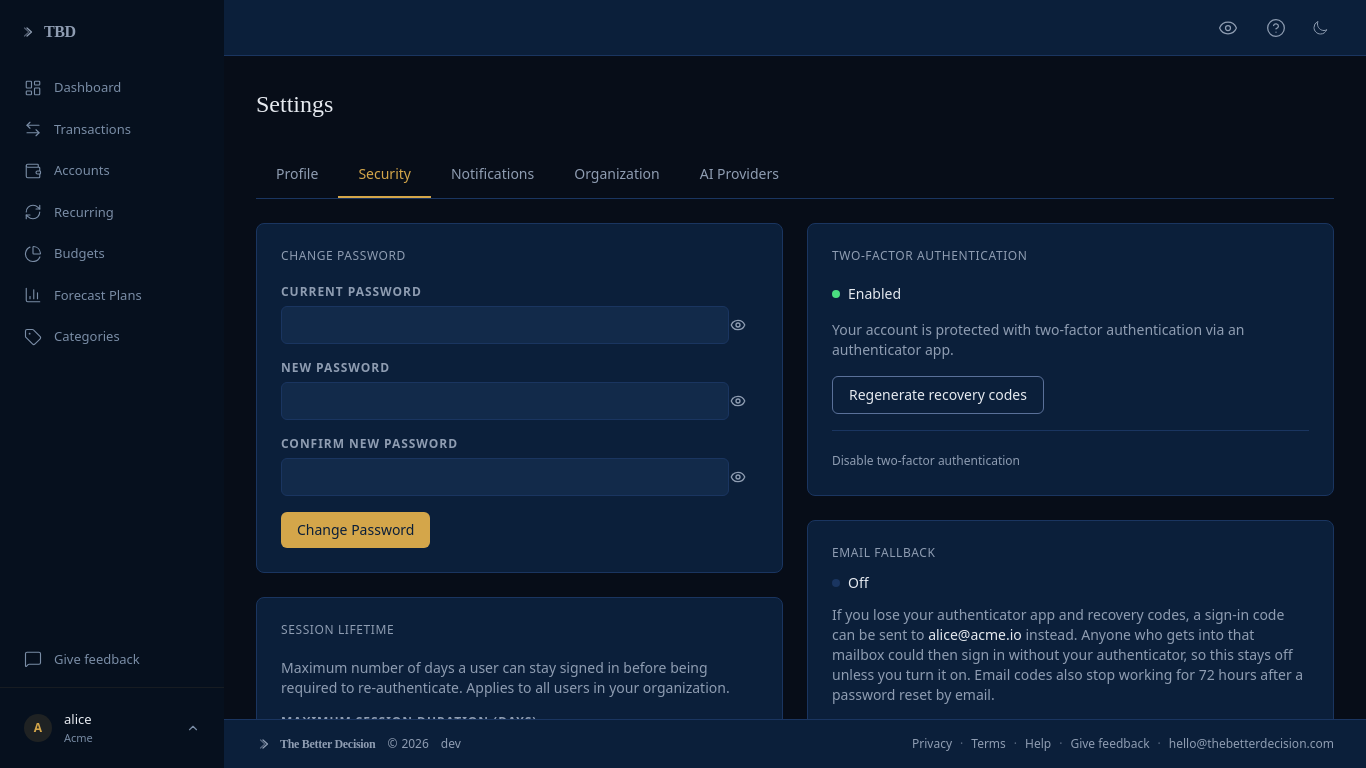
Security page: a second factor to disable or regenerate (BE-32) › maps a wrong code to its own message
Click the button "Disable two-factor authentication": (926, 461) top-left (832, 453), bottom-right (1020, 469)
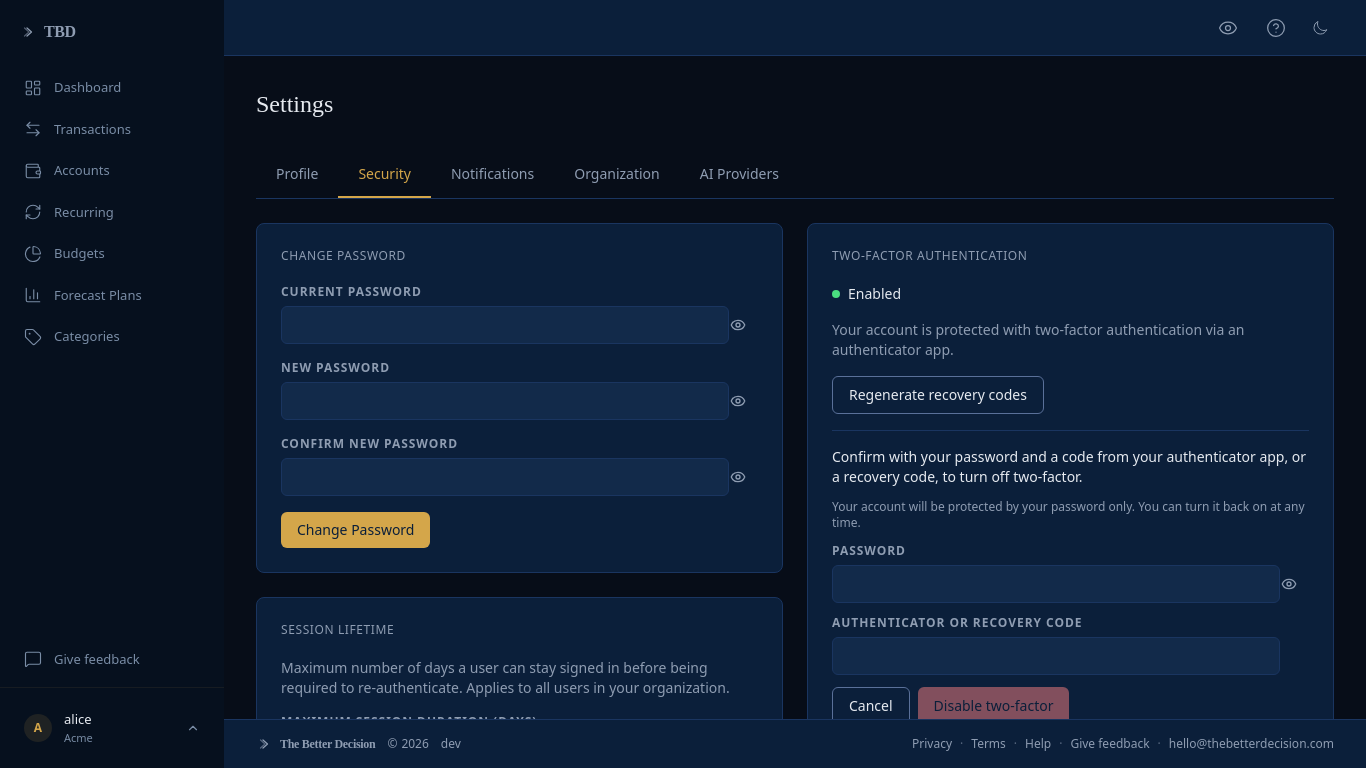
In the password field labelled "Password": (1056, 584) top-left (832, 565), bottom-right (1280, 603), type "hunter2"
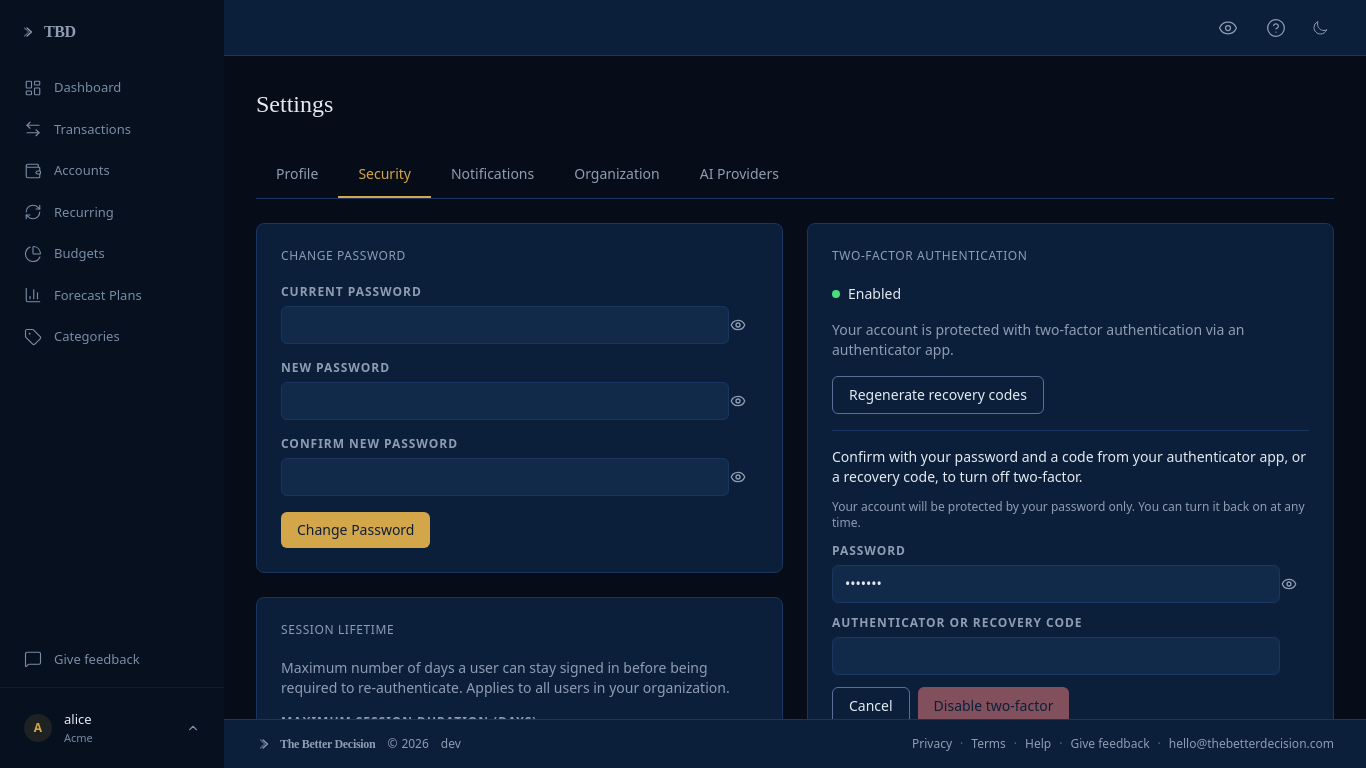
In the field labelled "Authenticator or recovery code": (1056, 656) top-left (832, 637), bottom-right (1280, 675), type "000000"
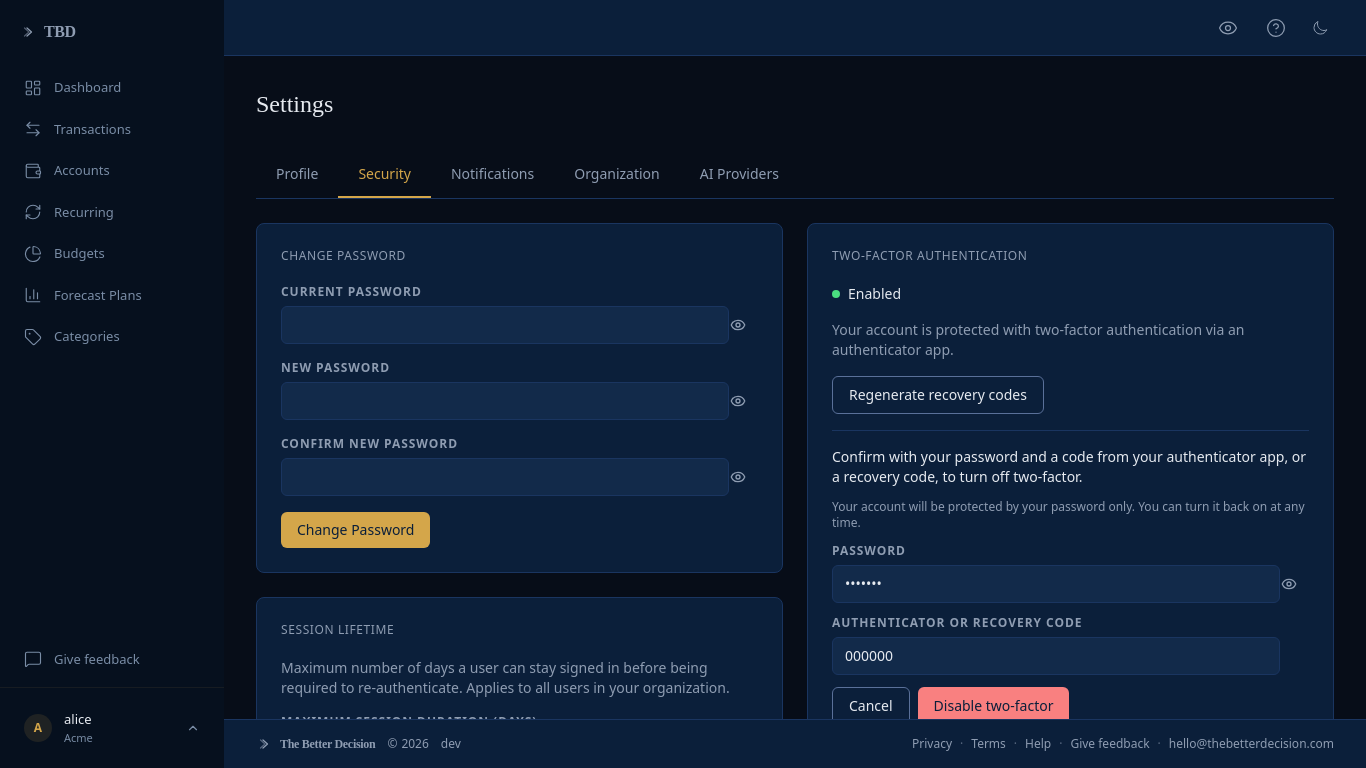
Click the button "Disable two-factor": (994, 706) top-left (918, 687), bottom-right (1070, 725)
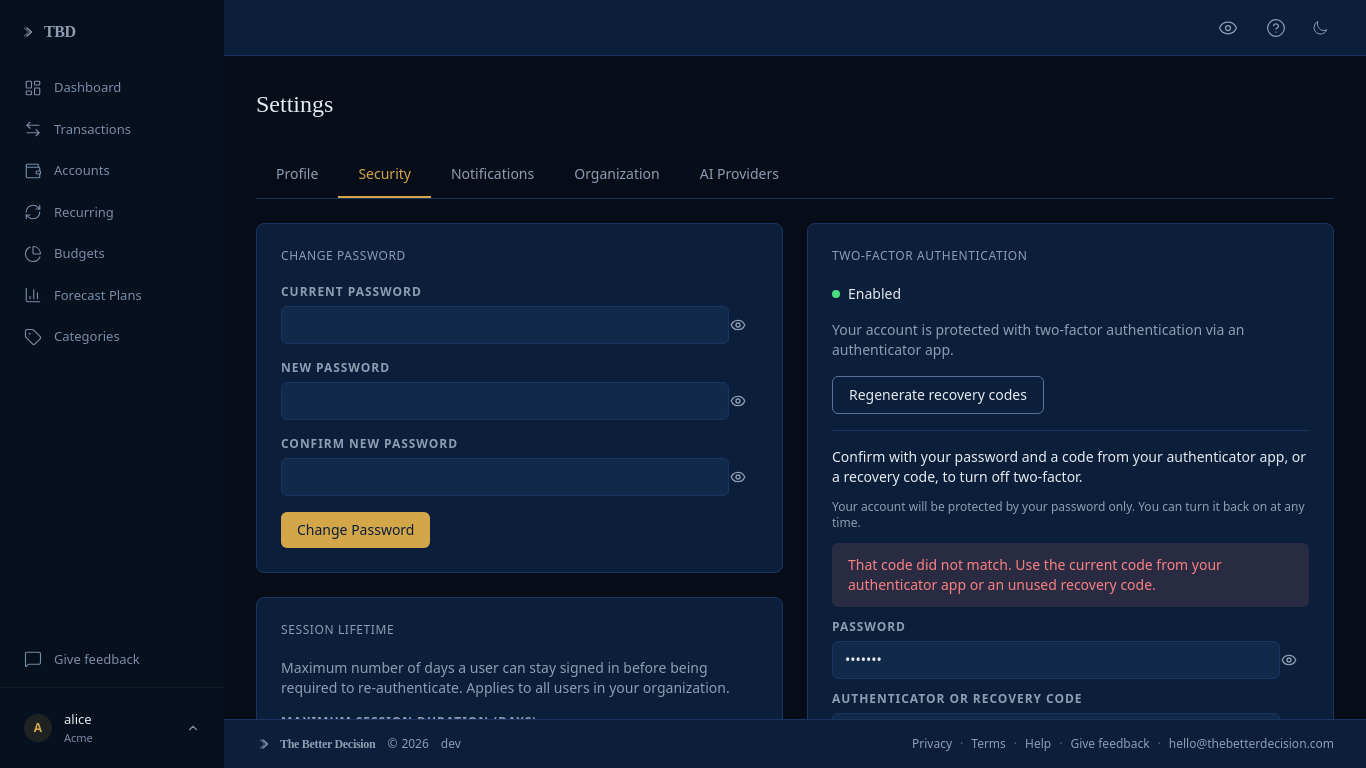
Expected: the message does not show "password"
Result: the message shows "code did not match" at top-left (848, 555), bottom-right (1222, 594)
